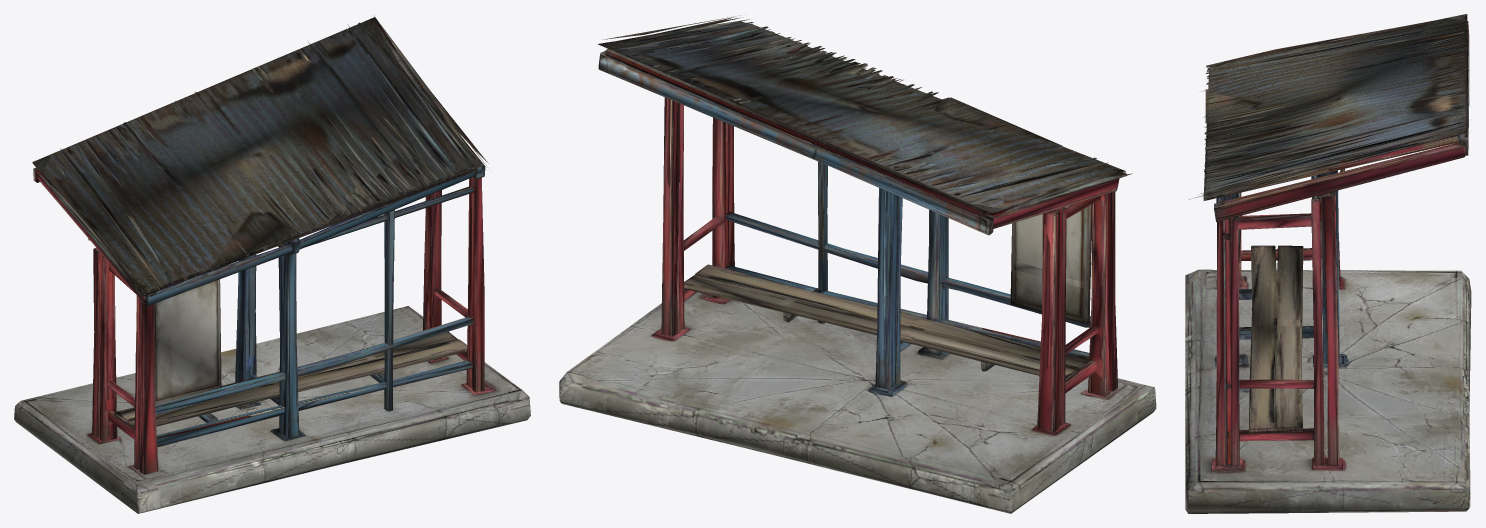
File: bus_stop_stand_right_side_up.fbx
The picture shows the model from 3 angles, left to right: view 1: azimuth 30°, elevation 25°; view 2: azimuth 150°, elevation 25°; view 3: azimuth 270°, elevation 25°; orthographic projection. The views are drawn at different scales.
Parts seen in each view (by area): view 1: mesh_node; view 2: mesh_node; view 3: mesh_node.
Part boxes in pixels (box(x1,y1,x2,y2)): mesh_node: box(14, 16, 530, 513); mesh_node: box(559, 15, 1156, 513); mesh_node: box(1185, 14, 1471, 513).
Size of the model in its own units: 3.8 by 3 by 2.12.
